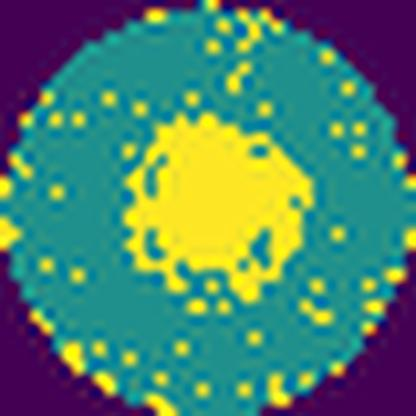Center: (127, 113, 309, 302)
